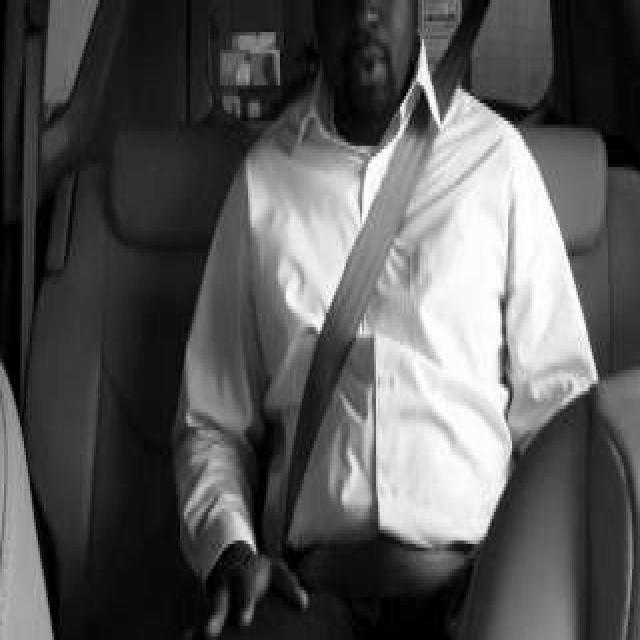Seatbelt: (272, 7, 498, 615)
